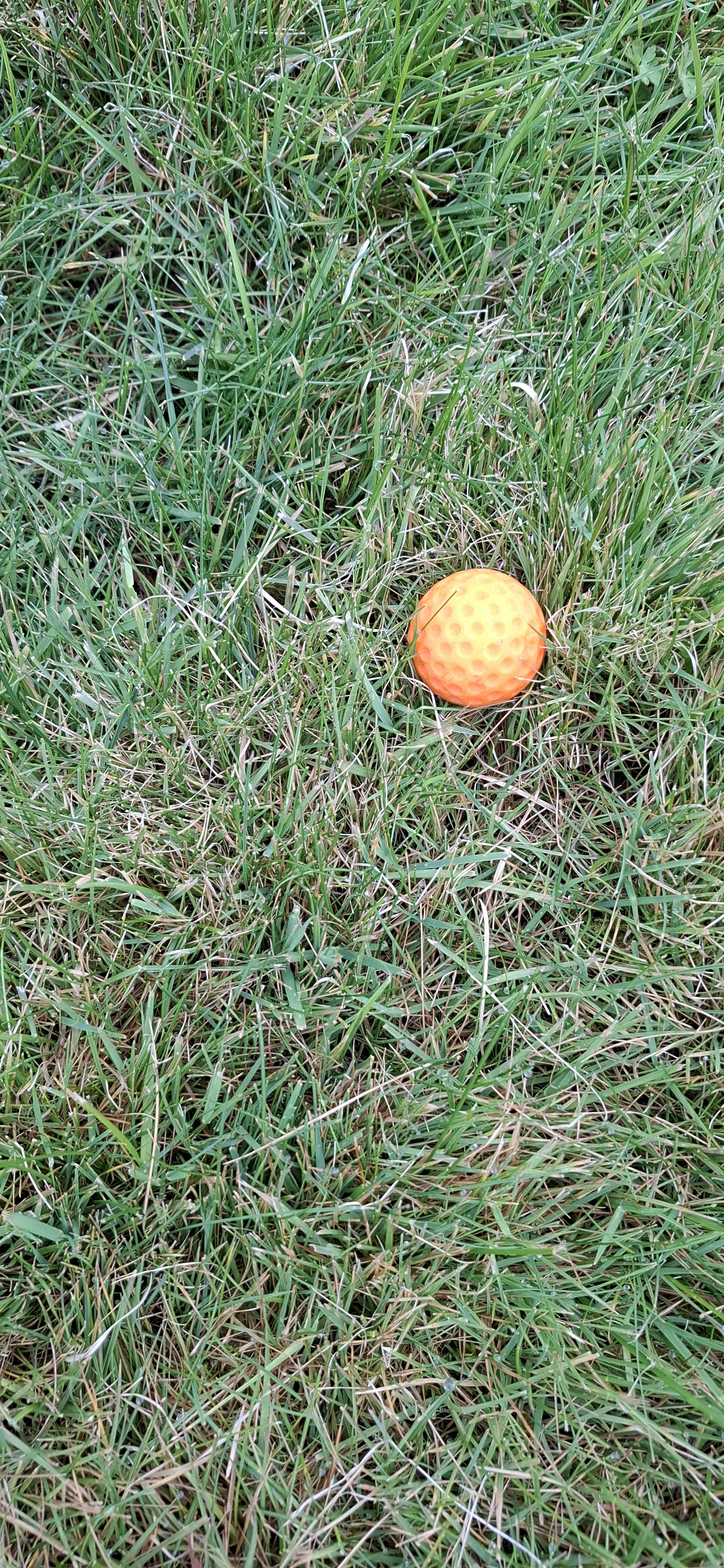ball: (261, 385, 327, 691)
